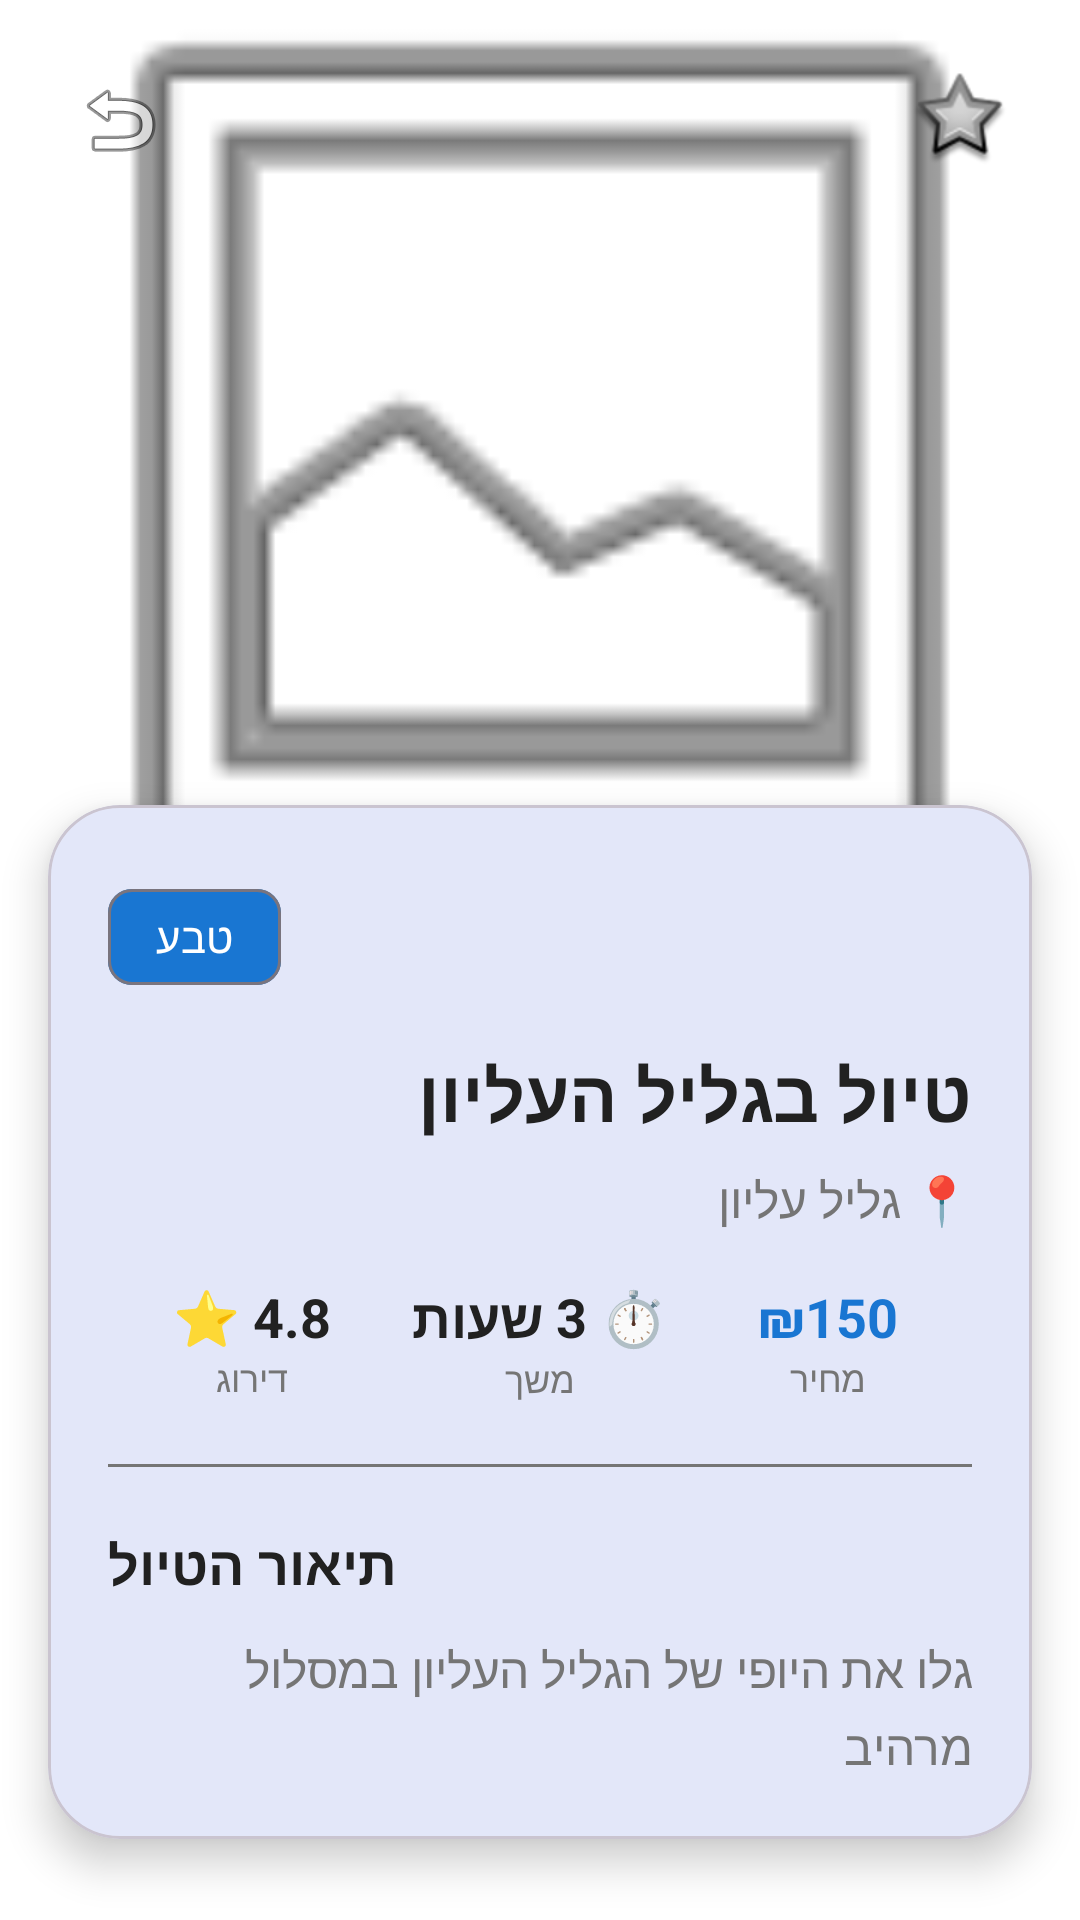

Where to tap for icons on this 1080 x 1920 app screen, as point (x, y):
הוסף למועדפים: point (945, 120)
